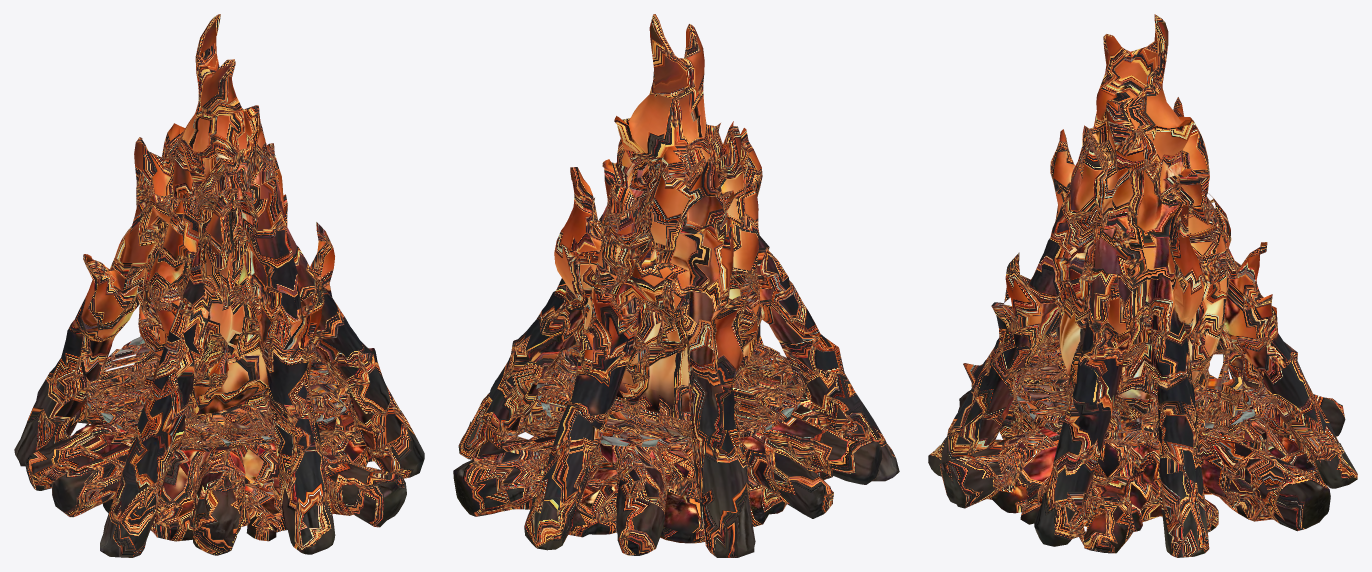
The model's file is campfire.glb.
The picture shows the model from 3 angles, left to right: view 1: azimuth 30°, elevation 25°; view 2: azimuth 150°, elevation 25°; view 3: azimuth 270°, elevation 25°; orthographic projection. The views are drawn at different scales.
Size of the model in its own units: 1.6 by 1.9 by 1.61.
Materials: 1 (1 with a texture image).
